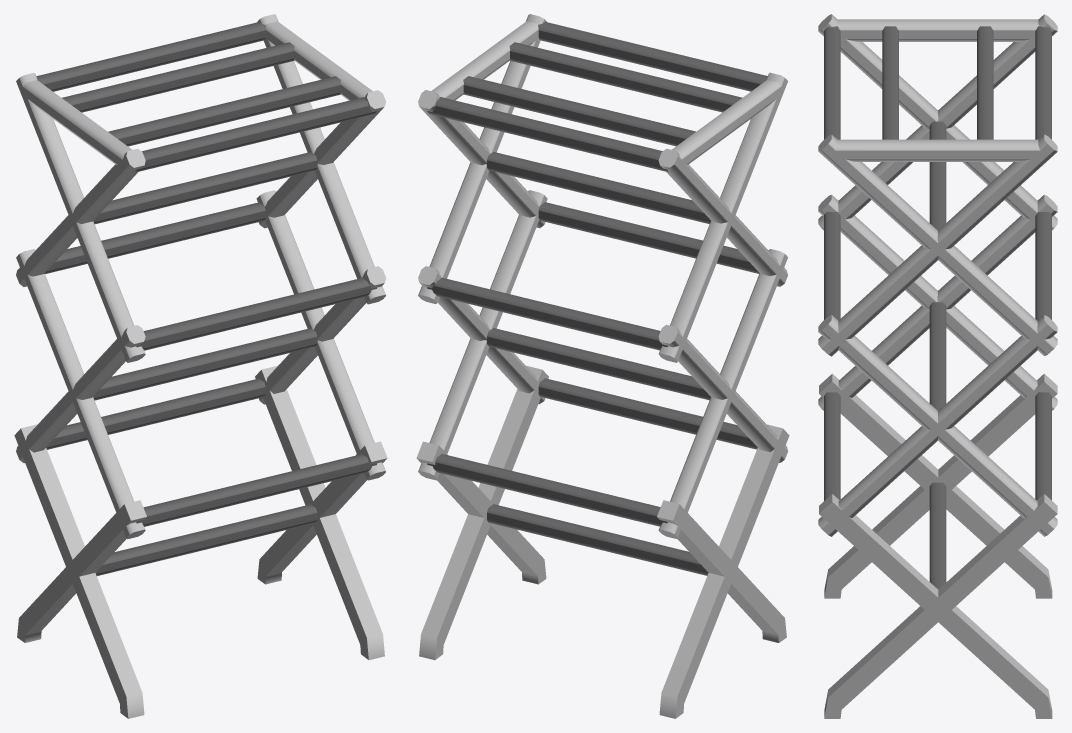
Rendered from DryingRackModel.fbx.
The picture shows the model from 3 angles, left to right: view 1: azimuth 30°, elevation 25°; view 2: azimuth 150°, elevation 25°; view 3: azimuth 270°, elevation 25°; orthographic projection. The views are drawn at different scales.
Parts seen in each view (by area): view 1: ClothesRackModel; view 2: ClothesRackModel; view 3: ClothesRackModel.
Boxes of the visible parts, x1=… form: ClothesRackModel: x1=14, y1=14, x2=387, y2=718; ClothesRackModel: x1=416, y1=14, x2=789, y2=718; ClothesRackModel: x1=818, y1=14, x2=1057, y2=718.
Size of the model in its own units: 64.02 by 135 by 50.52.
